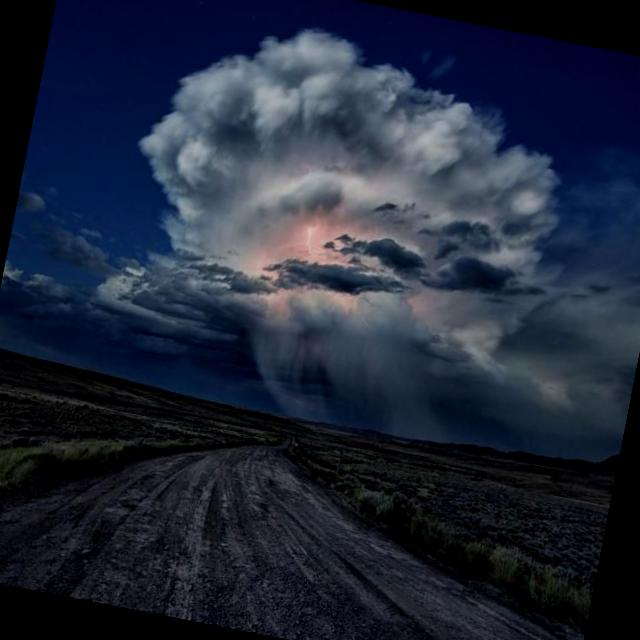cumulonimbus: (14, 0, 640, 453)
